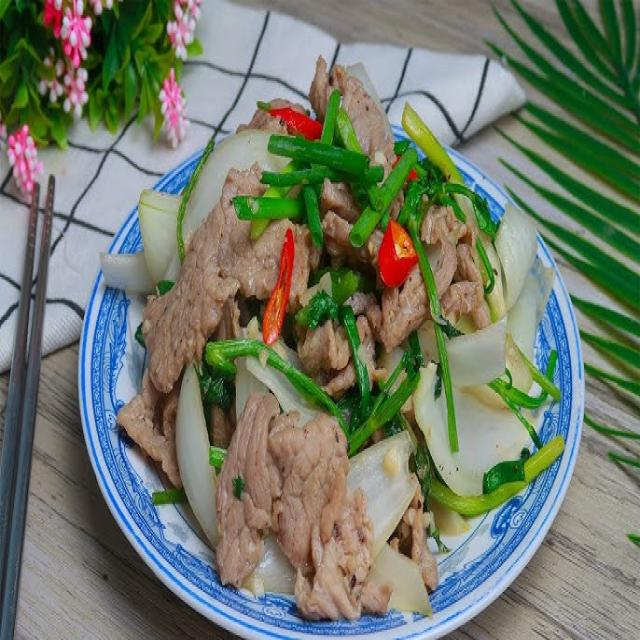bo xao: (117, 58, 563, 618)
ot: (262, 227, 294, 343), (377, 217, 418, 288), (270, 106, 322, 139)
